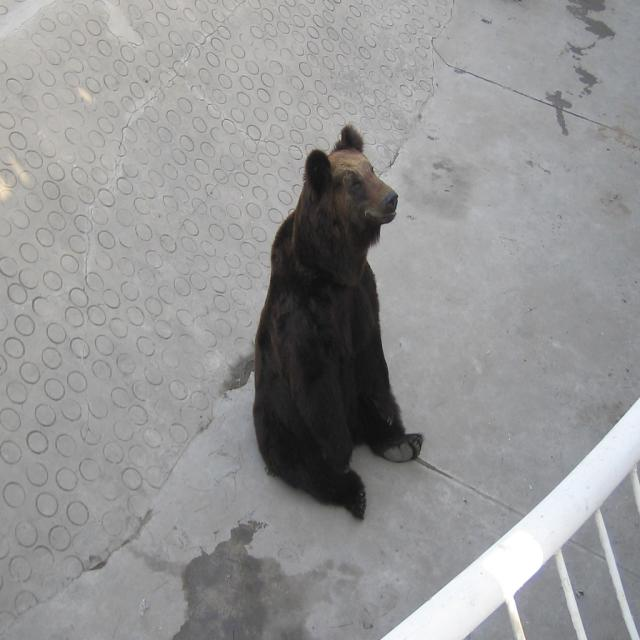Cheetahs: (252, 121, 425, 522)
